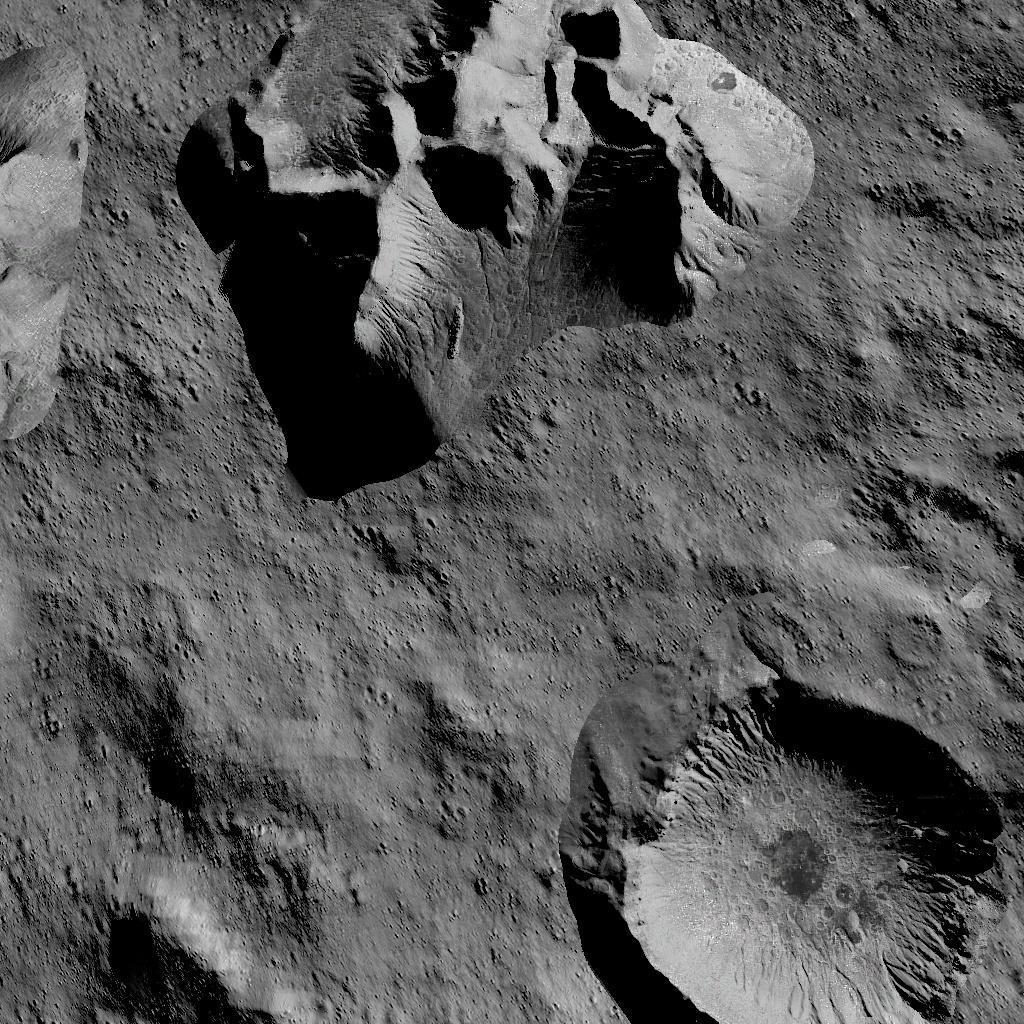Boulders: (177, 0, 822, 486), (106, 864, 320, 1024), (0, 22, 75, 434)
Crater: (554, 646, 1018, 1024), (861, 440, 1024, 590), (135, 716, 222, 814)
Plan surface: (243, 502, 537, 844), (841, 0, 1024, 386), (10, 502, 226, 696), (554, 504, 842, 631)
